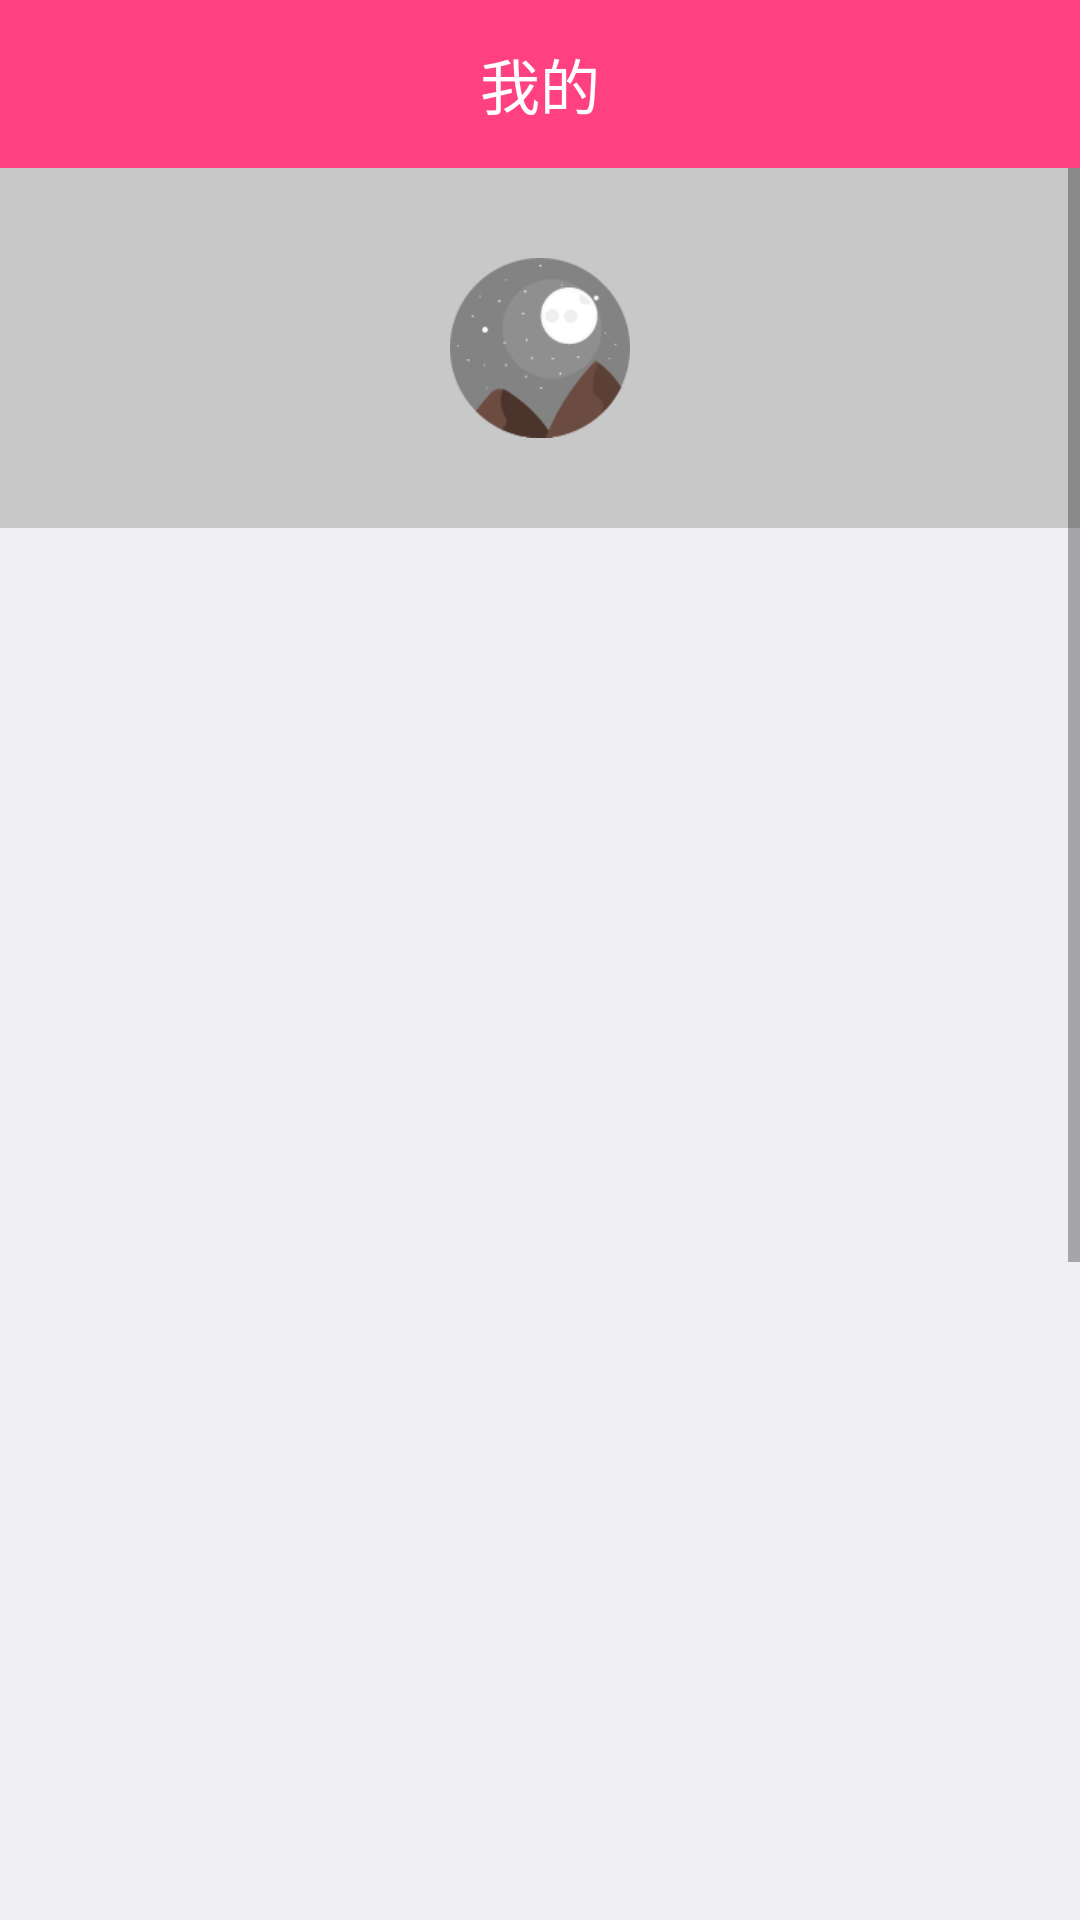

Where icons sit on this 1080px x 1920px app screen, as (x1, y1, x2, y2):
night: (450, 258, 630, 438)
